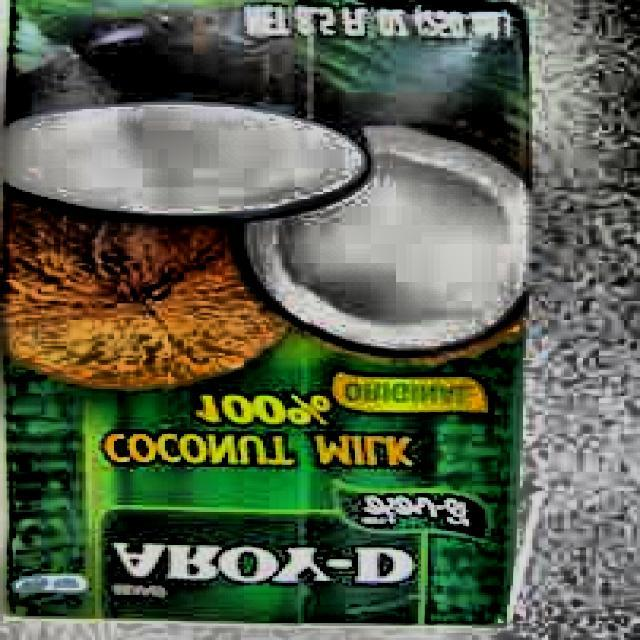cardboard: (0, 1, 535, 631)
